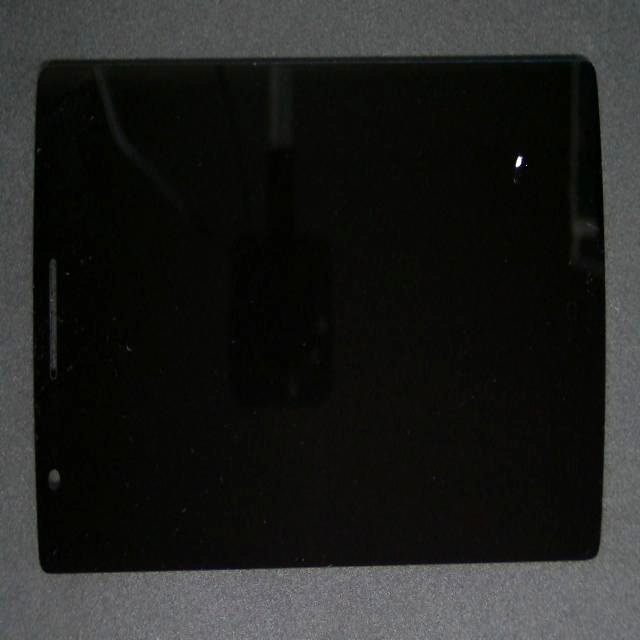stain: (247, 67, 640, 270)
